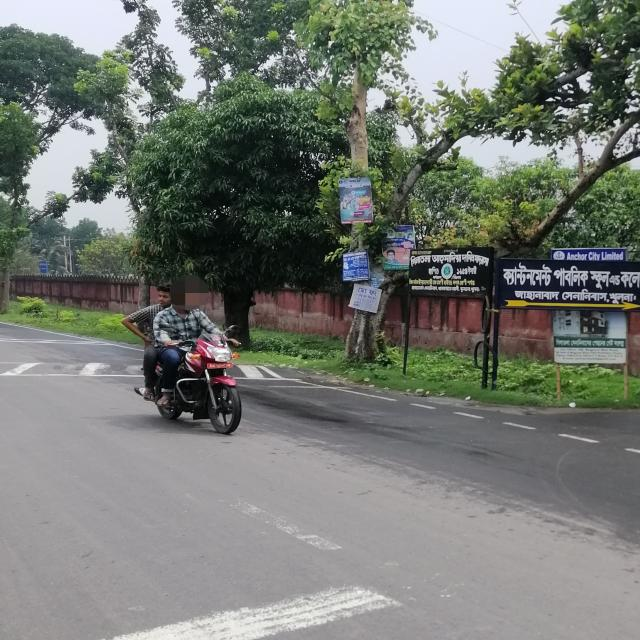Motorbike: (128, 322, 261, 436)
